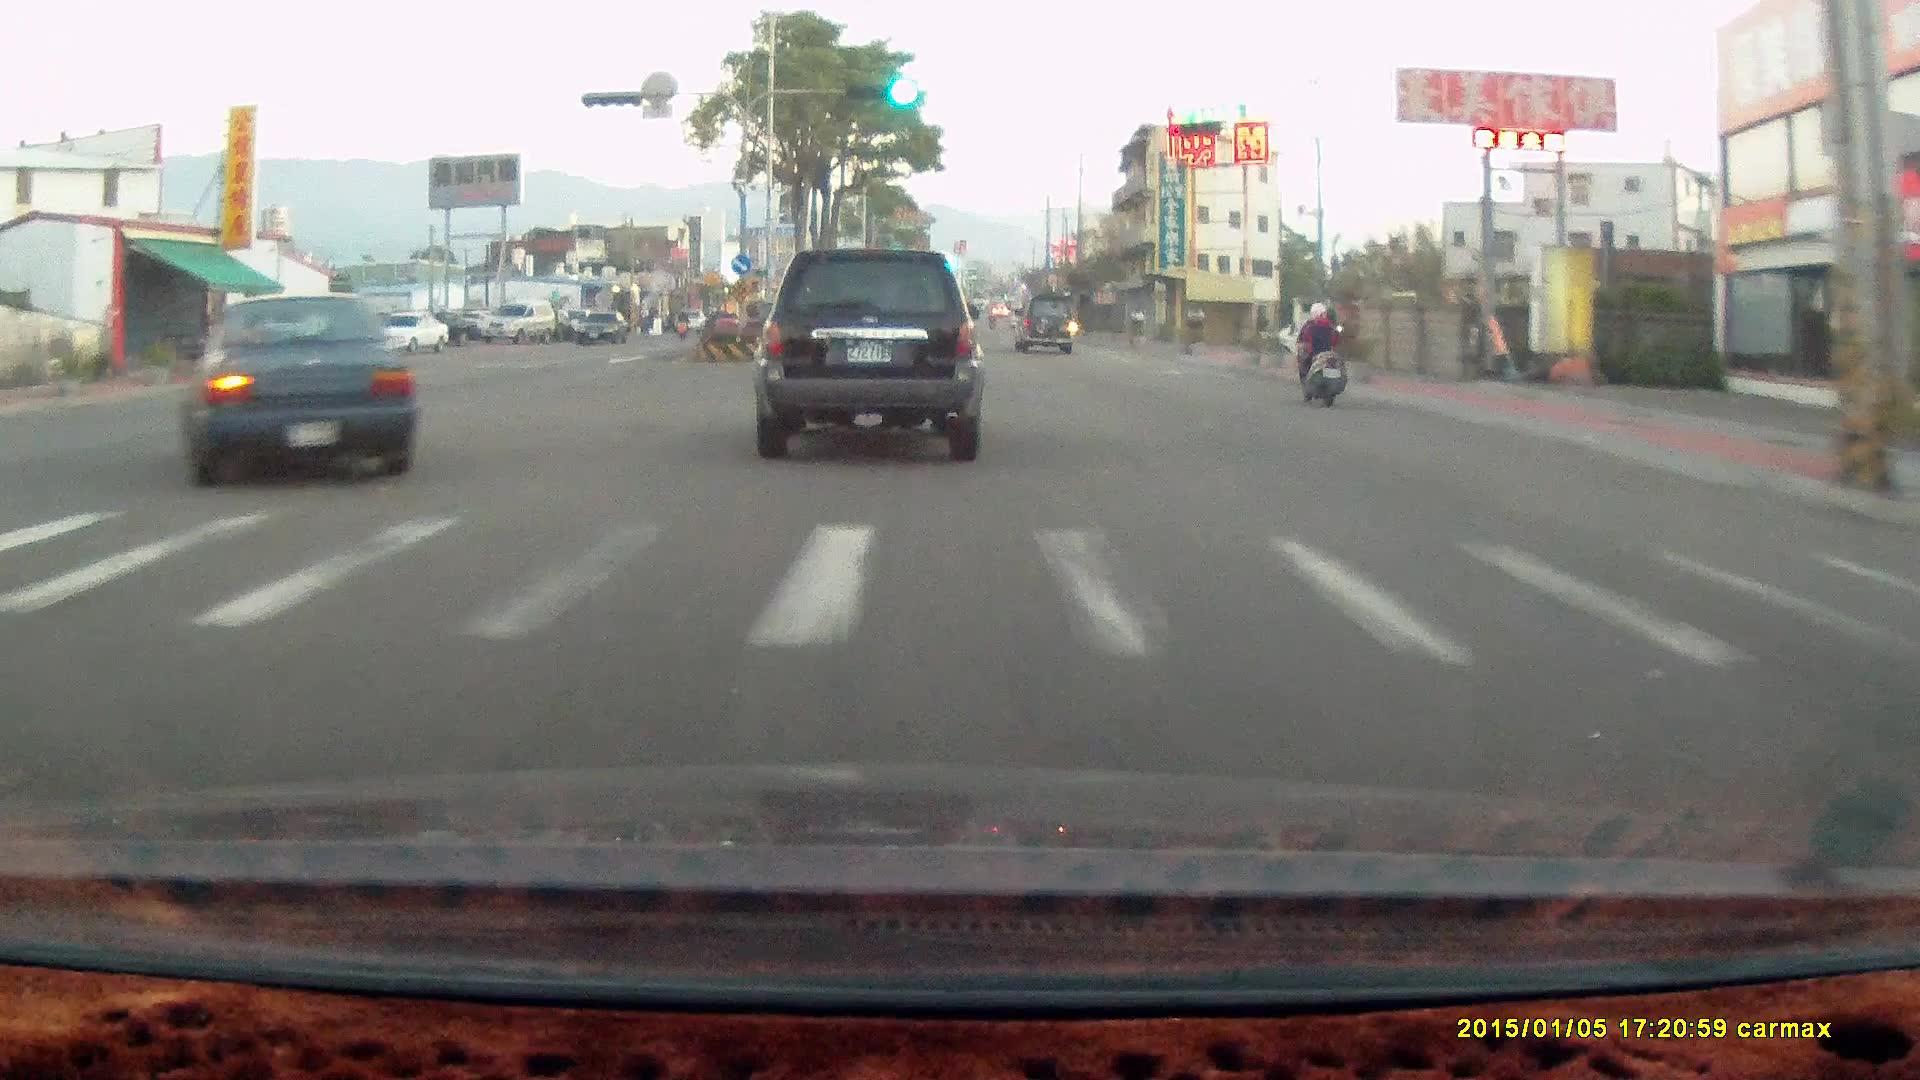rider: (1284, 292, 1357, 417), (1292, 297, 1347, 408)
vehicle: (160, 290, 413, 494), (752, 247, 982, 460), (761, 249, 991, 462), (177, 293, 416, 488), (1018, 294, 1079, 361), (365, 310, 452, 355), (364, 312, 452, 356), (476, 302, 556, 350), (1012, 294, 1075, 353), (477, 298, 555, 343), (576, 312, 631, 348), (575, 310, 629, 345)
